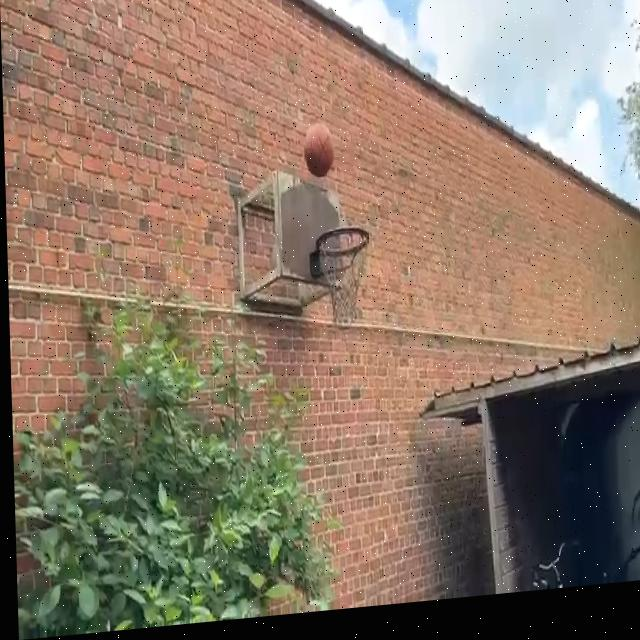Basketball: (305, 122, 335, 178)
